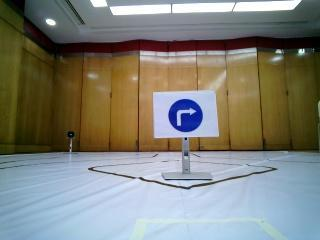right: (152, 93, 215, 135)
